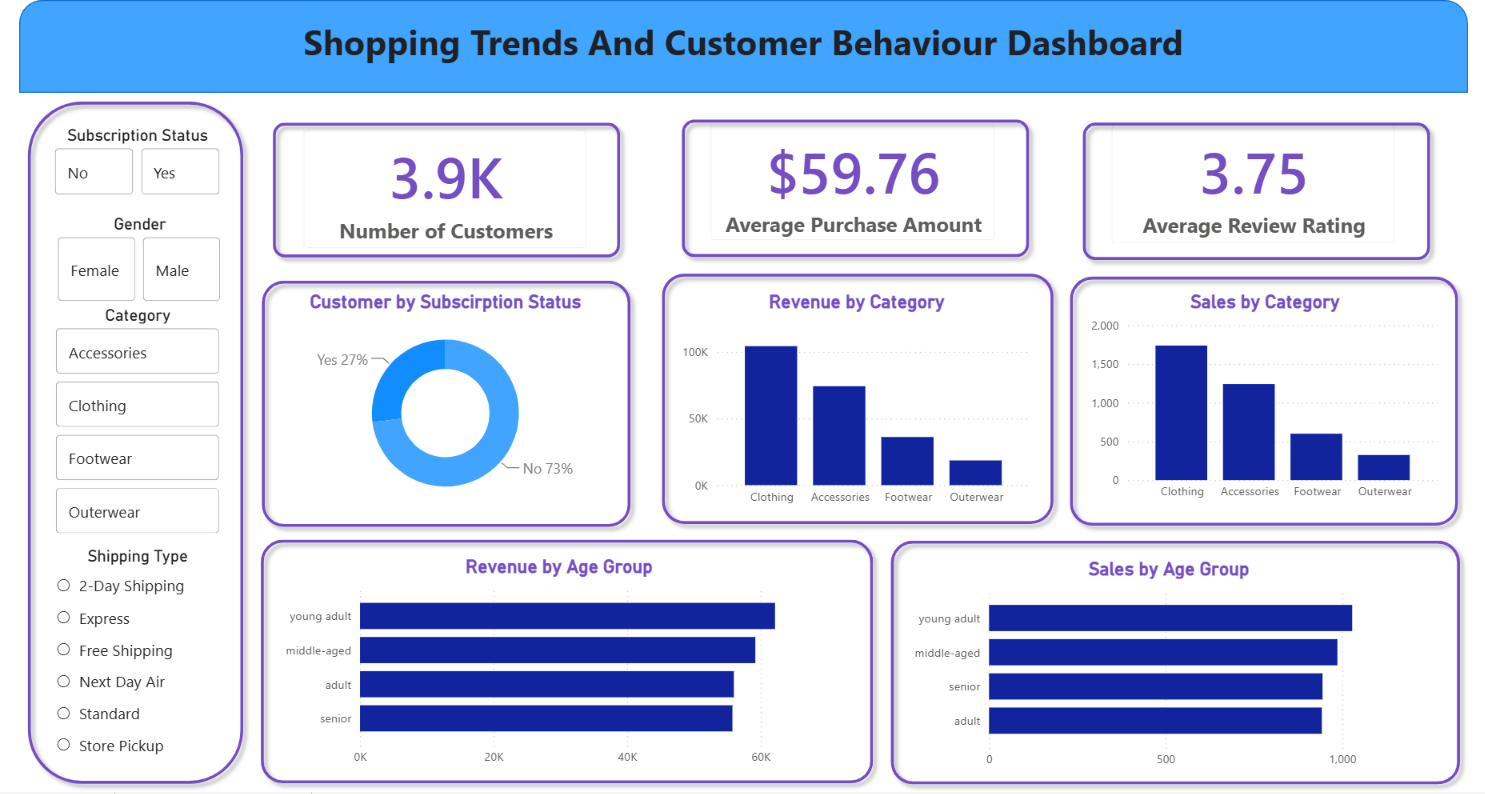

The page's visual inventory and layout, read from the dashboard file:
{"tool":"powerbi","page":{"name":"Page 1","canvas":[1500,820],"ordinal":0},"visuals":[{"type":"shape","box":[0,0,1499.9,96.1],"z":0},{"type":"cardVisual","fields":{"Data":["customer.average_review_rating"]},"box":[1113.5,111.4,328,157.8],"z":0,"group":"g8"},{"type":"cardVisual","fields":{"Data":["customer.number_of_customers"]},"box":[277.2,117,328,157.8],"z":0,"group":"g5"},{"type":"shape","box":[655.9,274.4,423.4,277.1],"z":0,"group":"g1"},{"type":"shape","box":[1079.3,277.1,419.9,275.9],"z":0,"group":"g2"},{"type":"textbox","box":[0,13.9,1499.9,82.2],"z":1000},{"type":"cardVisual","fields":{"Data":["customer.average_purchase_amount"]},"box":[698.5,112.8,328.7,153.6],"z":1000,"group":"g6"},{"type":"clusteredColumnChart","title":"Sales by Category","fields":{"Category":["customer.category"],"Y":["CountNonNull(customer.payment_method)"]},"box":[1104.8,300.6,370.5,226],"z":1000,"group":"g2"},{"type":"clusteredColumnChart","title":"Revenue by Category","fields":{"Y":["Sum(customer.purchase_amount)"],"Category":["customer.category"]},"box":[681,301.8,371.8,231.2],"z":1000,"group":"g1"},{"type":"group","id":"g1","title":"Group 2","box":[655.9,274.4,423.4,277.1],"z":2000},{"type":"group","id":"g2","title":"Group 2","box":[1079.3,277.1,420.6,275.7],"z":3000},{"type":"donutChart","title":"Customer by Subscirption Status","fields":{"Y":["CountNonNull(customer.customer_id)"],"Category":["customer.subscription_status"]},"box":[259.2,301.6,365.2,231.5],"z":4000},{"type":"shape","box":[0,96.1,240.9,724.2],"z":5000},{"type":"shape","box":[676.8,114.4,377.4,160.2],"z":6000,"group":"g6"},{"type":"shape","box":[253.5,117.6,377.4,157.4],"z":6000,"group":"g5"},{"type":"shape","box":[1091.9,117.6,377.4,160.2],"z":6000,"group":"g8"},{"type":"advancedSlicerVisual","fields":{"Values":["customer.subscription_status"]},"box":[32,129.5,181,78],"z":6000},{"type":"shape","box":[240.9,550.1,651.8,270.2],"z":6000,"group":"g7"},{"type":"shape","box":[893.1,550.8,607.2,270.2],"z":6000,"group":"g9"},{"type":"shape","box":[242.3,281.3,399.7,273],"z":7000},{"type":"advancedSlicerVisual","fields":{"Values":["customer.gender"]},"box":[34.8,221.4,179.7,96.1],"z":8000},{"type":"advancedSlicerVisual","fields":{"Values":["customer.category"]},"box":[33.4,316.1,179.7,242.3],"z":9000},{"type":"listSlicer","fields":{"Values":["customer.shipping_type"]},"box":[32,565.4,181,228.4],"z":10000},{"type":"group","id":"g3","title":"Group 3","box":[240.9,550.1,651.8,270.2],"z":11000},{"type":"group","id":"g4","title":"Group 3","box":[893.1,550.8,607.2,270.2],"z":12000},{"type":"group","id":"g5","title":"Group 4","box":[253.5,117,377.4,157.4],"z":13000},{"type":"clusteredBarChart","title":"Revenue by Age Group","fields":{"Y":["Sum(customer.purchase_amount)"],"Category":["customer.age_group"]},"box":[265.5,575.7,586,226.1],"z":13000,"group":"g3"},{"type":"clusteredBarChart","title":"Sales by Age Group","fields":{"Category":["customer.age_group"],"Y":["CountNonNull(customer.customer_id)"]},"box":[916.9,577.8,545.9,226.5],"z":13000,"group":"g9"},{"type":"group","id":"g6","title":"Group 5","box":[676.8,112.8,377.4,161.5],"z":14000},{"type":"group","id":"g7","title":"Group 1","box":[240.9,550.1,651.8,270.2],"z":14000,"group":"g3"},{"type":"group","id":"g8","title":"Group 6","box":[1091.9,111.4,377.4,165.7],"z":15000},{"type":"group","id":"g9","title":"Group 8","box":[893.1,550.8,607.2,270.2],"z":15002,"group":"g4"}]}

Visuals, with their boxes in screenshot pixels (x1, y1, x2, y2), scaled from the page's 1500x820 canvas onto the 1485x794 screenshot:
shape: [0, 0, 1484, 93]
cardVisual - customer.average_review_rating: [1102, 108, 1427, 261]
cardVisual - customer.number_of_customers: [274, 113, 599, 266]
shape: [649, 266, 1069, 534]
shape: [1069, 268, 1484, 535]
textbox: [0, 13, 1484, 93]
cardVisual - customer.average_purchase_amount: [692, 109, 1017, 258]
"Sales by Category" clusteredColumnChart: [1094, 291, 1461, 510]
"Revenue by Category" clusteredColumnChart: [674, 292, 1042, 516]
"Group 2" group: [649, 266, 1069, 534]
"Group 2" group: [1069, 268, 1484, 535]
"Customer by Subscirption Status" donutChart: [257, 292, 618, 516]
shape: [0, 93, 238, 793]
shape: [670, 111, 1044, 266]
shape: [251, 114, 625, 266]
shape: [1081, 114, 1455, 269]
advancedSlicerVisual - customer.subscription_status: [32, 125, 211, 201]
shape: [238, 533, 884, 793]
shape: [884, 533, 1484, 793]
shape: [240, 272, 636, 537]
advancedSlicerVisual - customer.gender: [34, 214, 212, 307]
advancedSlicerVisual - customer.category: [33, 306, 211, 541]
listSlicer - customer.shipping_type: [32, 547, 211, 769]
"Group 3" group: [238, 533, 884, 793]
"Group 3" group: [884, 533, 1484, 793]
"Group 4" group: [251, 113, 625, 266]
"Revenue by Age Group" clusteredBarChart: [263, 557, 843, 776]
"Sales by Age Group" clusteredBarChart: [908, 559, 1448, 779]
"Group 5" group: [670, 109, 1044, 266]
"Group 1" group: [238, 533, 884, 793]
"Group 6" group: [1081, 108, 1455, 268]
"Group 8" group: [884, 533, 1484, 793]
